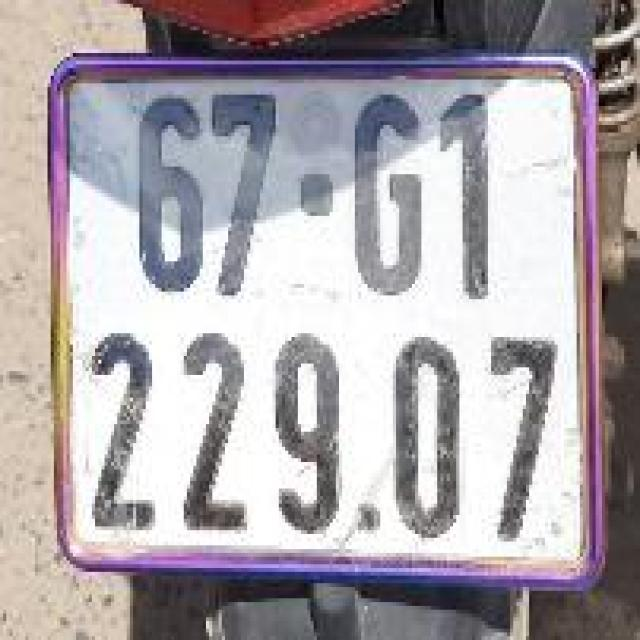0: (383, 329, 472, 542)
1: (437, 83, 504, 314)
2: (75, 322, 163, 549), (173, 328, 255, 540)
6: (114, 81, 206, 298)
7: (211, 81, 290, 305), (483, 329, 562, 553)
9: (264, 312, 344, 544)
G: (342, 80, 431, 318)
